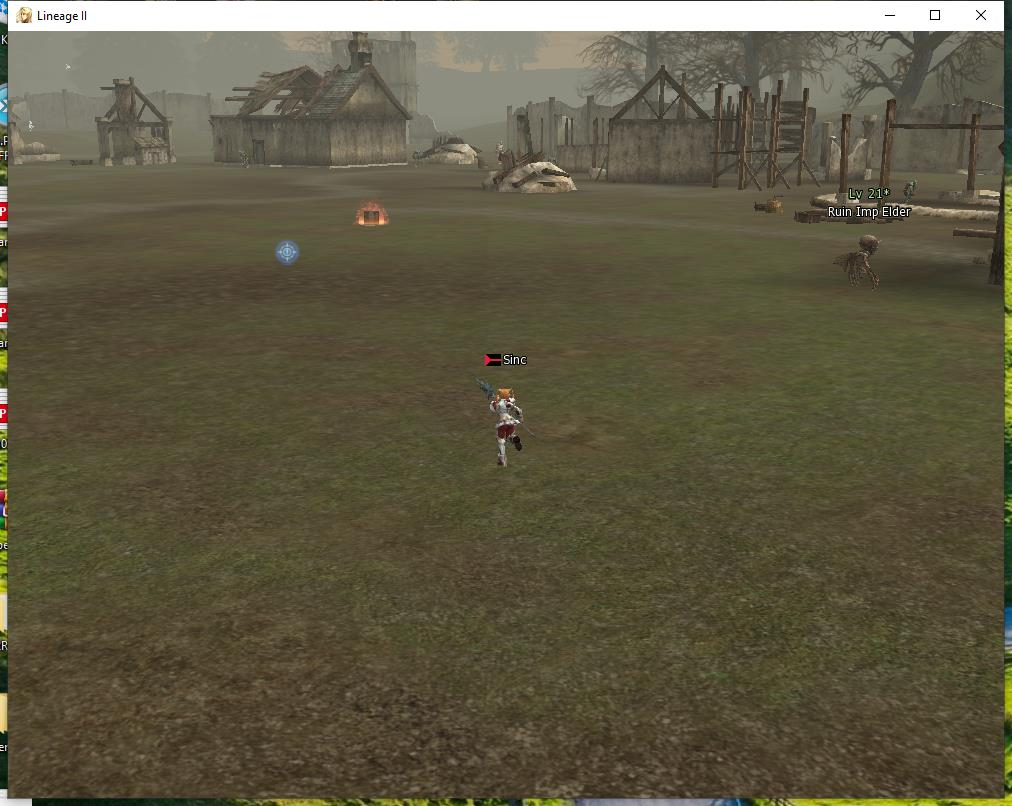monster: (837, 190, 903, 286)
